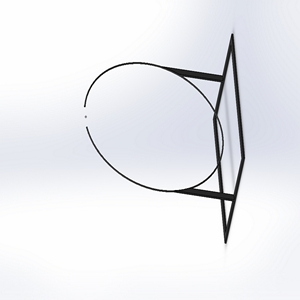circle: (79, 31, 247, 244)
